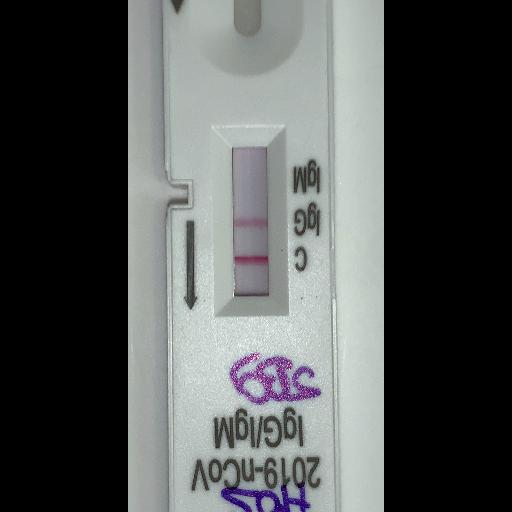Pos: (163, 0, 340, 511)
